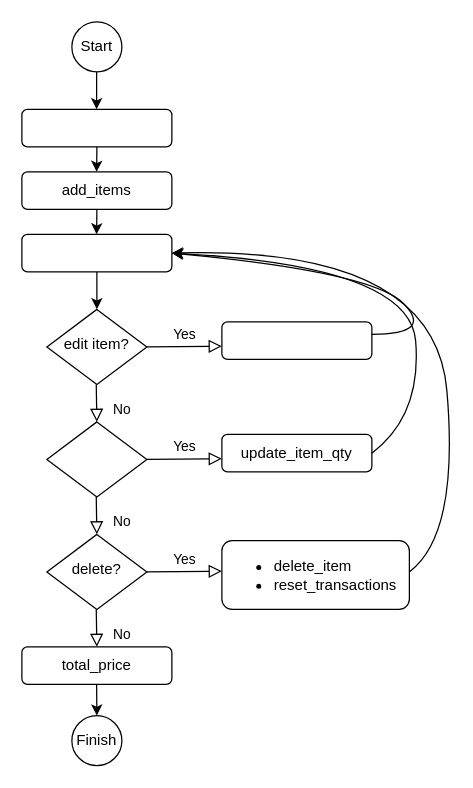
The diagram is 473 pixels wide and 788 high, and some of its shapes have lost their labels. Here are the shapes that lost their labels. From the top down, the box of each, then its label:
(21, 108, 172, 147): see_available_items
(21, 233, 172, 272): check_order
(221, 321, 372, 359): update_item_name
(46, 421, 147, 497): edit qty?
